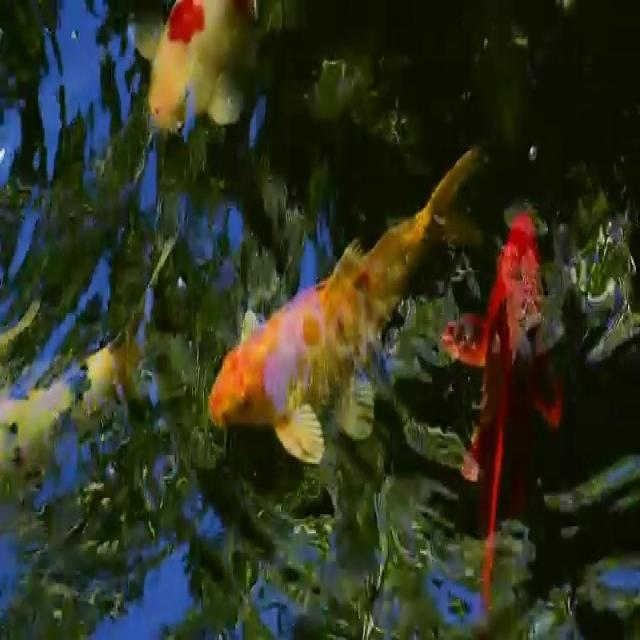fish: (203, 146, 490, 466), (447, 217, 568, 640), (0, 271, 174, 514), (123, 3, 262, 146)
